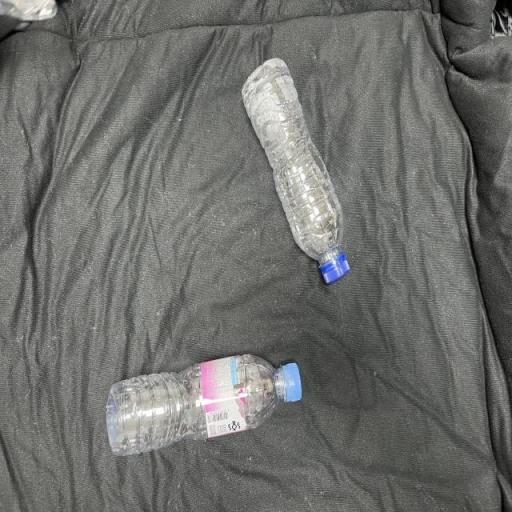plastic: (239, 56, 352, 286), (105, 352, 303, 456)
